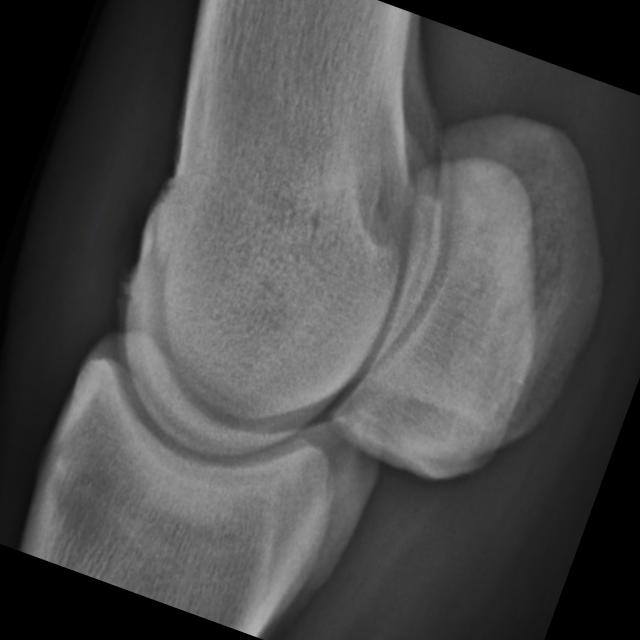bone remodeling: (83, 36, 295, 273)
